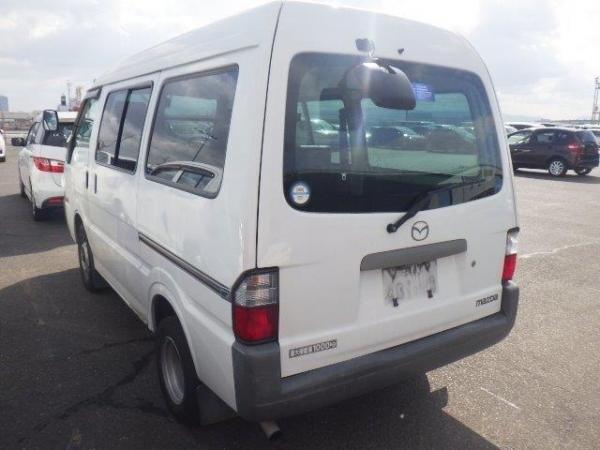van: (69, 0, 528, 416)
